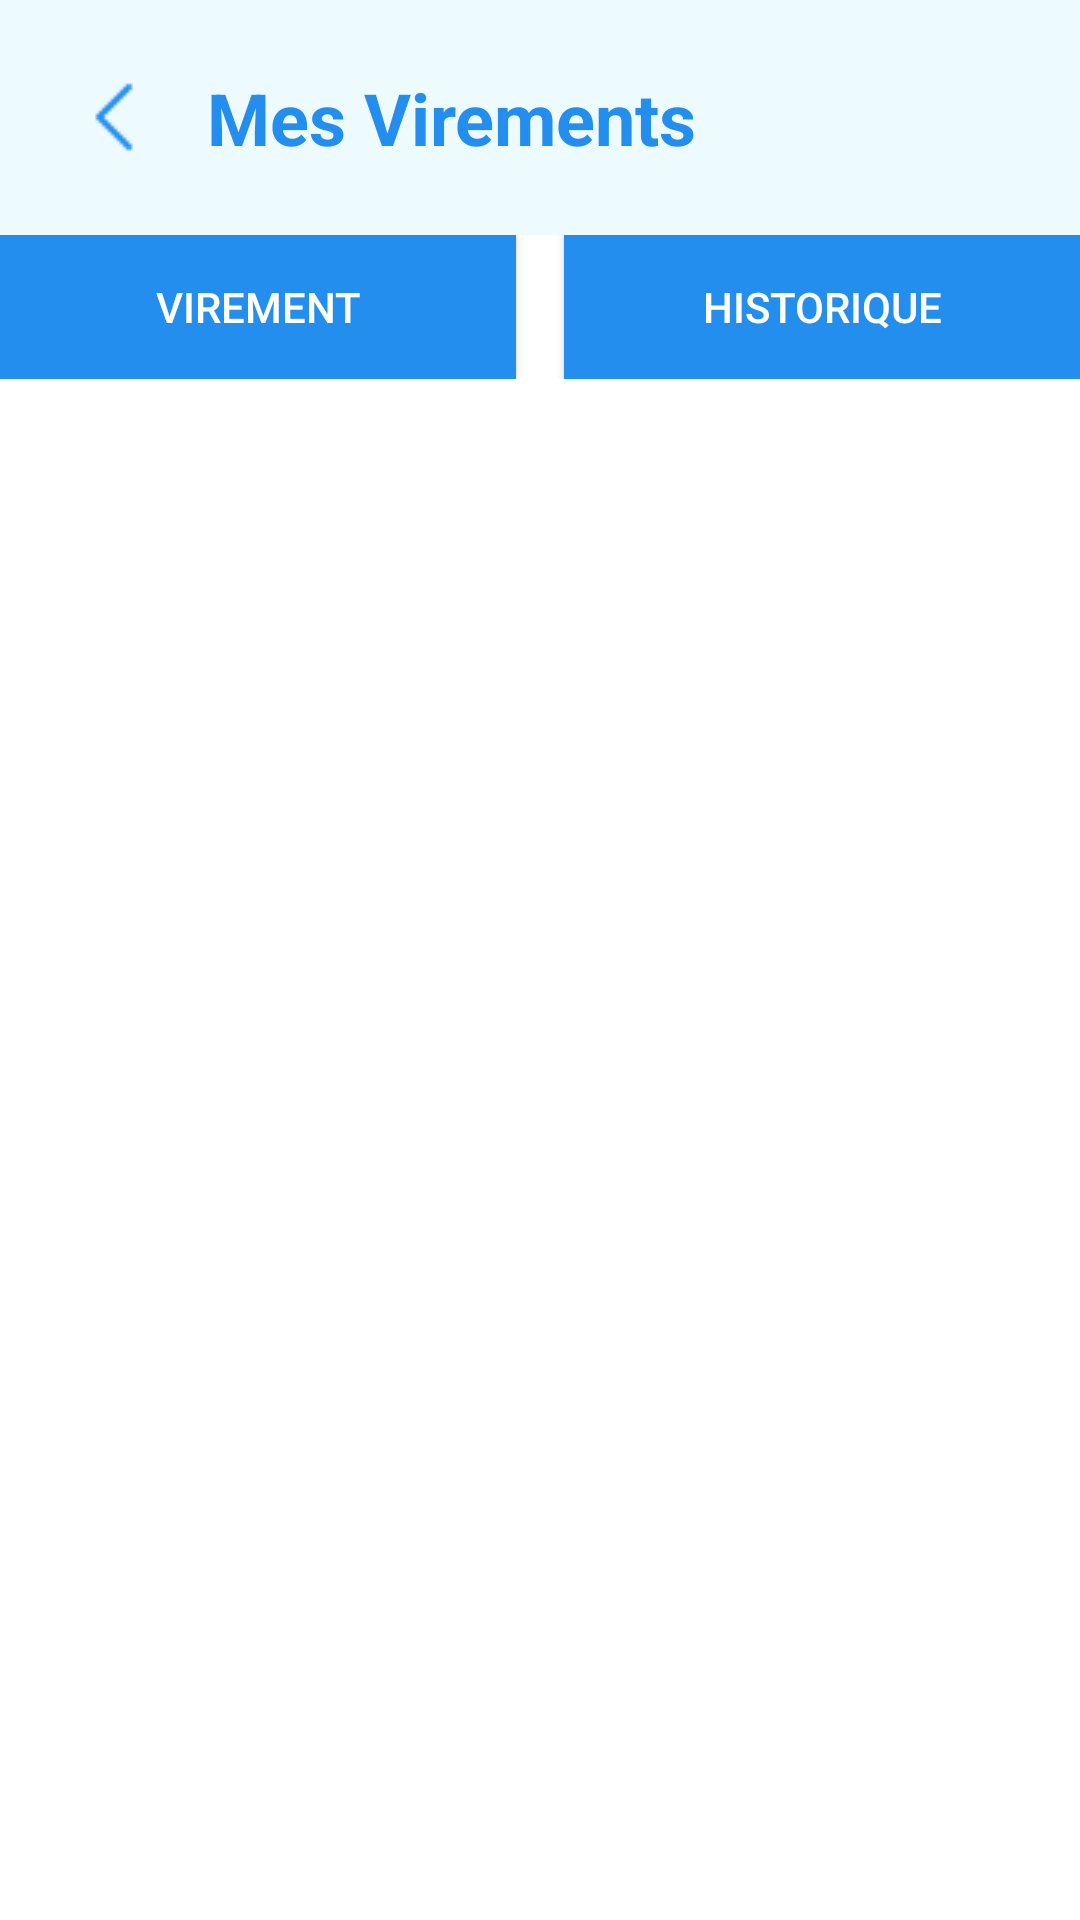

Screen size 1080 × 1920. Icon name, then its center in pixels as (x,y):
arrow back: (114,117)
